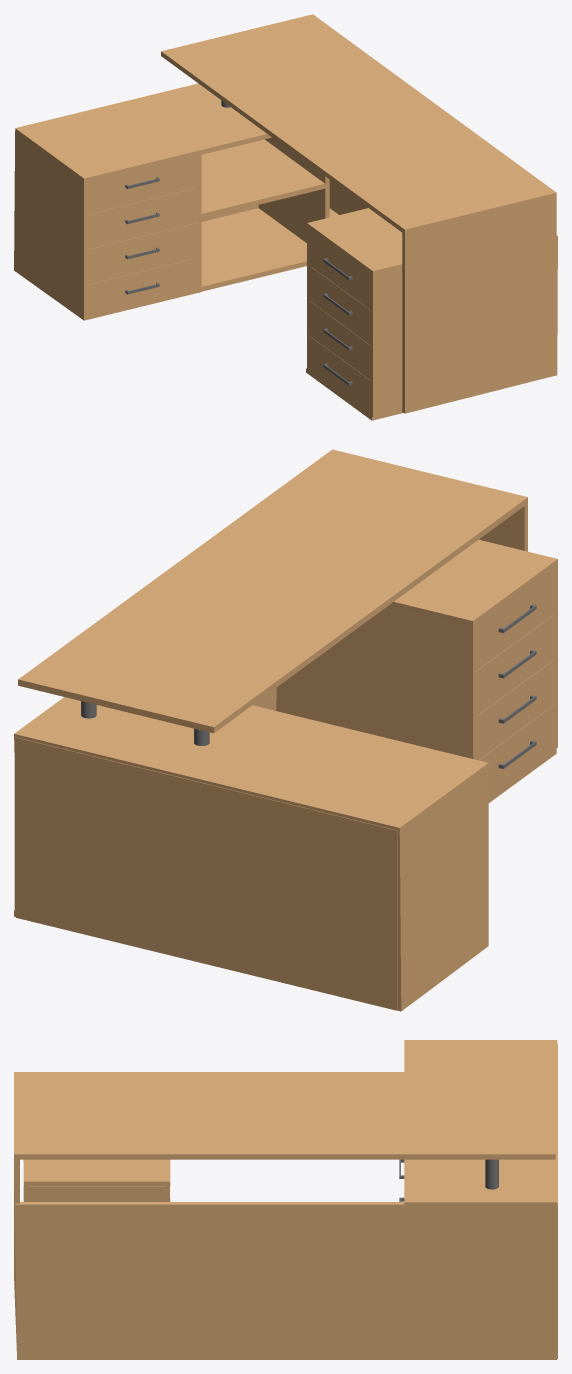
The model's file is TablePC.fbx.
3 renders of one model, top to bottom at view 1: azimuth 30°, elevation 25°; view 2: azimuth 150°, elevation 25°; view 3: azimuth 270°, elevation 25°, orthographic. The views are drawn at different scales.
Parts seen in each view (by area): view 1: Box014.001; view 2: Box014.001; view 3: Box014.001.
Boxes of the visible parts, x1,y1,x2,y2 form: Box014.001: (14,14,557,420); Box014.001: (14,449,557,1011); Box014.001: (14,1040,557,1359).
Bounding box in the file's own units: 5770 × 3457 × 8147.
